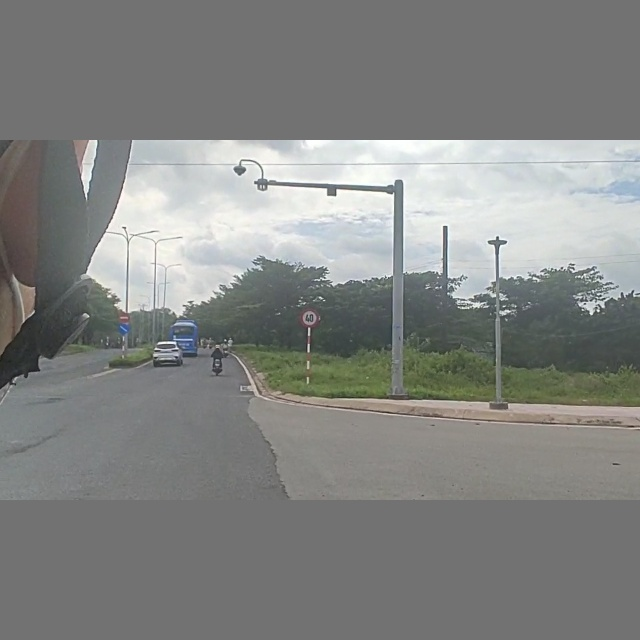P.102: (119, 311, 130, 323)
P.127*40: (300, 307, 321, 328)
R.302a: (119, 322, 129, 336)
